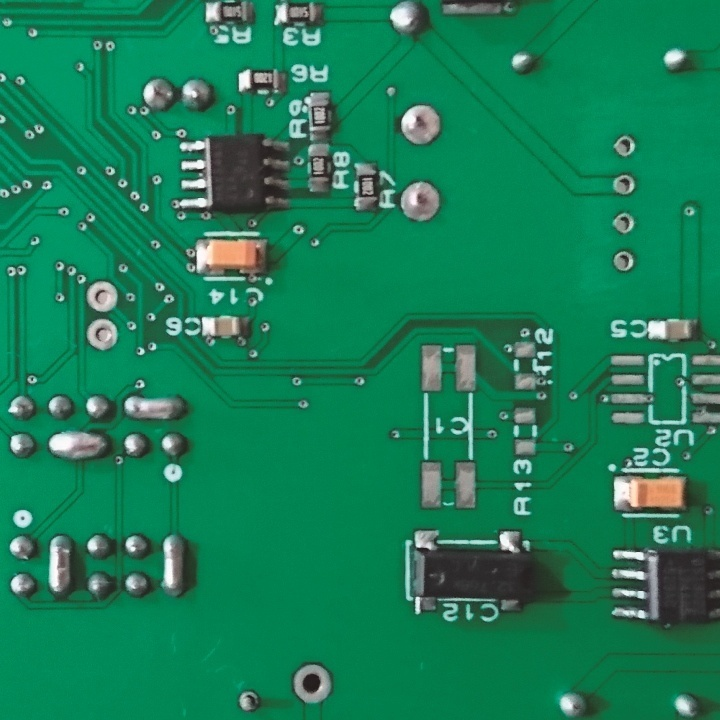F: (396, 180, 444, 227), (396, 102, 444, 148), (287, 663, 335, 706), (83, 278, 121, 316), (84, 318, 123, 352), (612, 169, 638, 198), (610, 248, 639, 274), (613, 131, 637, 160), (235, 689, 261, 715), (610, 212, 638, 235)
P: (44, 427, 110, 463), (161, 530, 192, 603), (121, 393, 190, 425), (47, 532, 76, 603)
